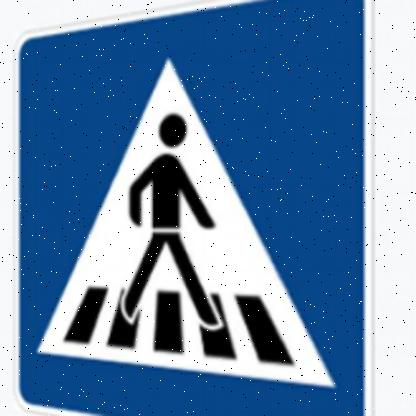Pedestrian Crossing: (13, 1, 372, 416)
